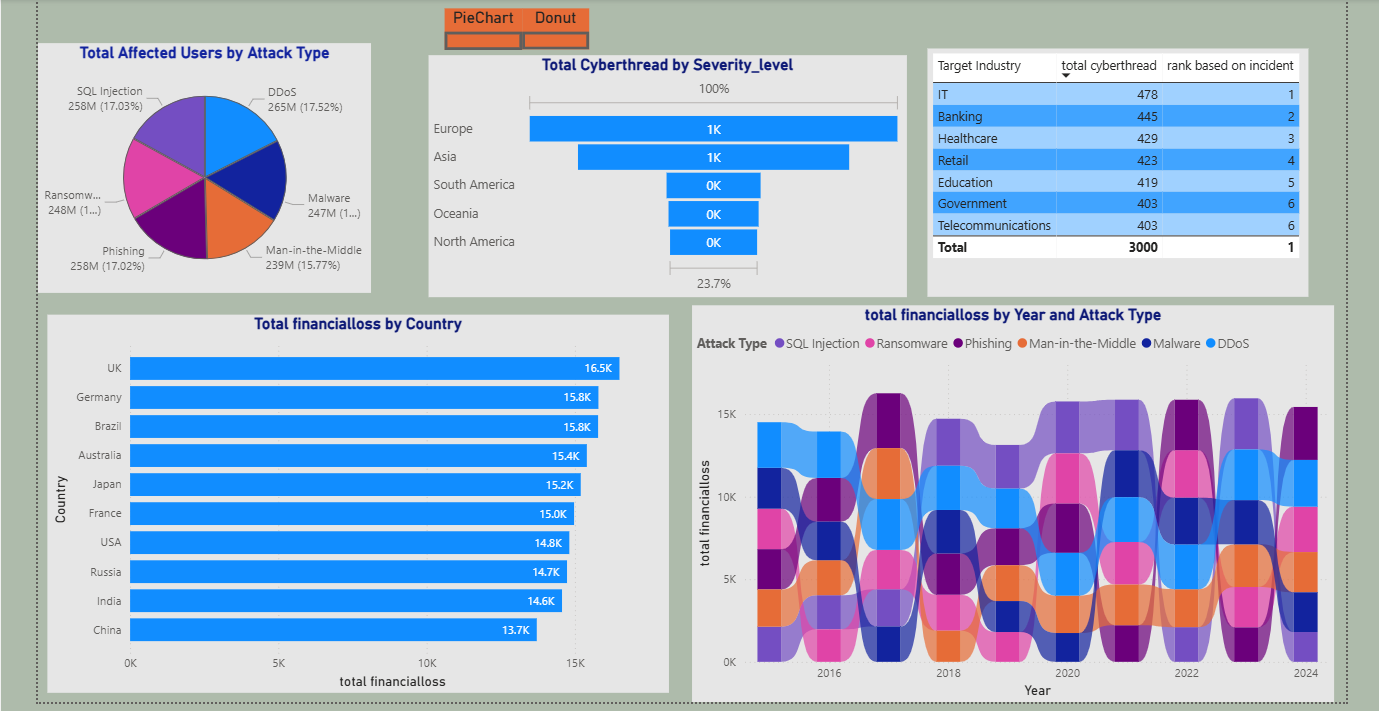

What the dashboard file says about the page in this screenshot:
{"tool":"powerbi","page":{"name":"Page 2","canvas":[1386,745],"ordinal":1},"visuals":[{"type":"pieChart","fields":{"Series":["Global_Cybersecurity_Threats_2015-2024.Attack Type"],"Y":["Global_Cybersecurity_Threats_2015-2024.Total Affected Users"]},"box":[0,46.3,353.2,264.9],"z":0},{"type":"actionButton","title":"PieChart","box":[430.9,9.9,82.2,43.9],"z":2000},{"type":"actionButton","title":"Donut","box":[512.4,10.1,70.9,43.4],"z":3000},{"type":"ribbonChart","fields":{"Category":["Global_Cybersecurity_Threats_2015-2024.Year"],"Series":["Global_Cybersecurity_Threats_2015-2024.Attack Type"],"Y":["Global_Cybersecurity_Threats_2015-2024.total financialloss"]},"box":[693.3,324.2,680.3,421.2],"z":4000},{"type":"funnel","title":"Total Cyberthread by Severity_level","fields":{"Y":["Global_Cybersecurity_Threats_2015-2024.total cyberthread"],"Category":["Global_Cybersecurity_Threats_2015-2024.Region"]},"box":[414,59.3,506.6,256.2],"z":5000},{"type":"tableEx","fields":{"Values":["Global_Cybersecurity_Threats_2015-2024.Target Industry","Global_Cybersecurity_Threats_2015-2024.total cyberthread","Global_Cybersecurity_Threats_2015-2024.most attacked industry based onincident"]},"box":[942.3,52.1,403.8,263.4],"z":7000},{"type":"clusteredBarChart","title":"Total financialloss by Country","fields":{"Category":["Global_Cybersecurity_Threats_2015-2024.Country"],"Y":["Global_Cybersecurity_Threats_2015-2024.total financialloss"]},"box":[10.1,334.4,658.6,400.9],"z":8000}]}

Visuals, with their boxes on the page's 1386x745 design canvas (x1, y1, x2, y2). These are canvas units, not pixel positions in the 1379x711 screenshot, which may show the page scaled, cropped or inside an application window:
pieChart - Global_Cybersecurity_Threats_2015-2024.Attack Type x Global_Cybersecurity_Threats_2015-2024.Total Affected Users: left=0, top=46, right=353, bottom=311
"PieChart" actionButton: left=431, top=10, right=513, bottom=54
"Donut" actionButton: left=512, top=10, right=583, bottom=54
ribbonChart - Global_Cybersecurity_Threats_2015-2024.Year x Global_Cybersecurity_Threats_2015-2024.Attack Type: left=693, top=324, right=1374, bottom=745
"Total Cyberthread by Severity_level" funnel: left=414, top=59, right=921, bottom=316
tableEx - Global_Cybersecurity_Threats_2015-2024.Target Industry x Global_Cybersecurity_Threats_2015-2024.total cyberthread: left=942, top=52, right=1346, bottom=316
"Total financialloss by Country" clusteredBarChart: left=10, top=334, right=669, bottom=735
